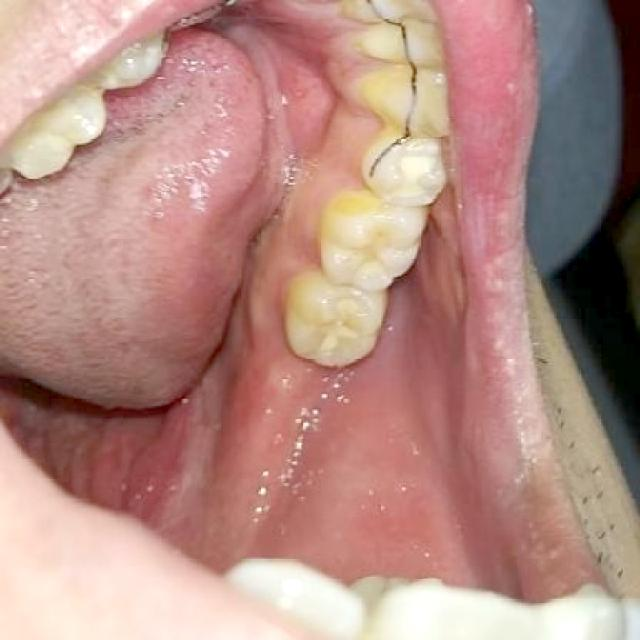Plaque: (365, 226, 401, 255)
